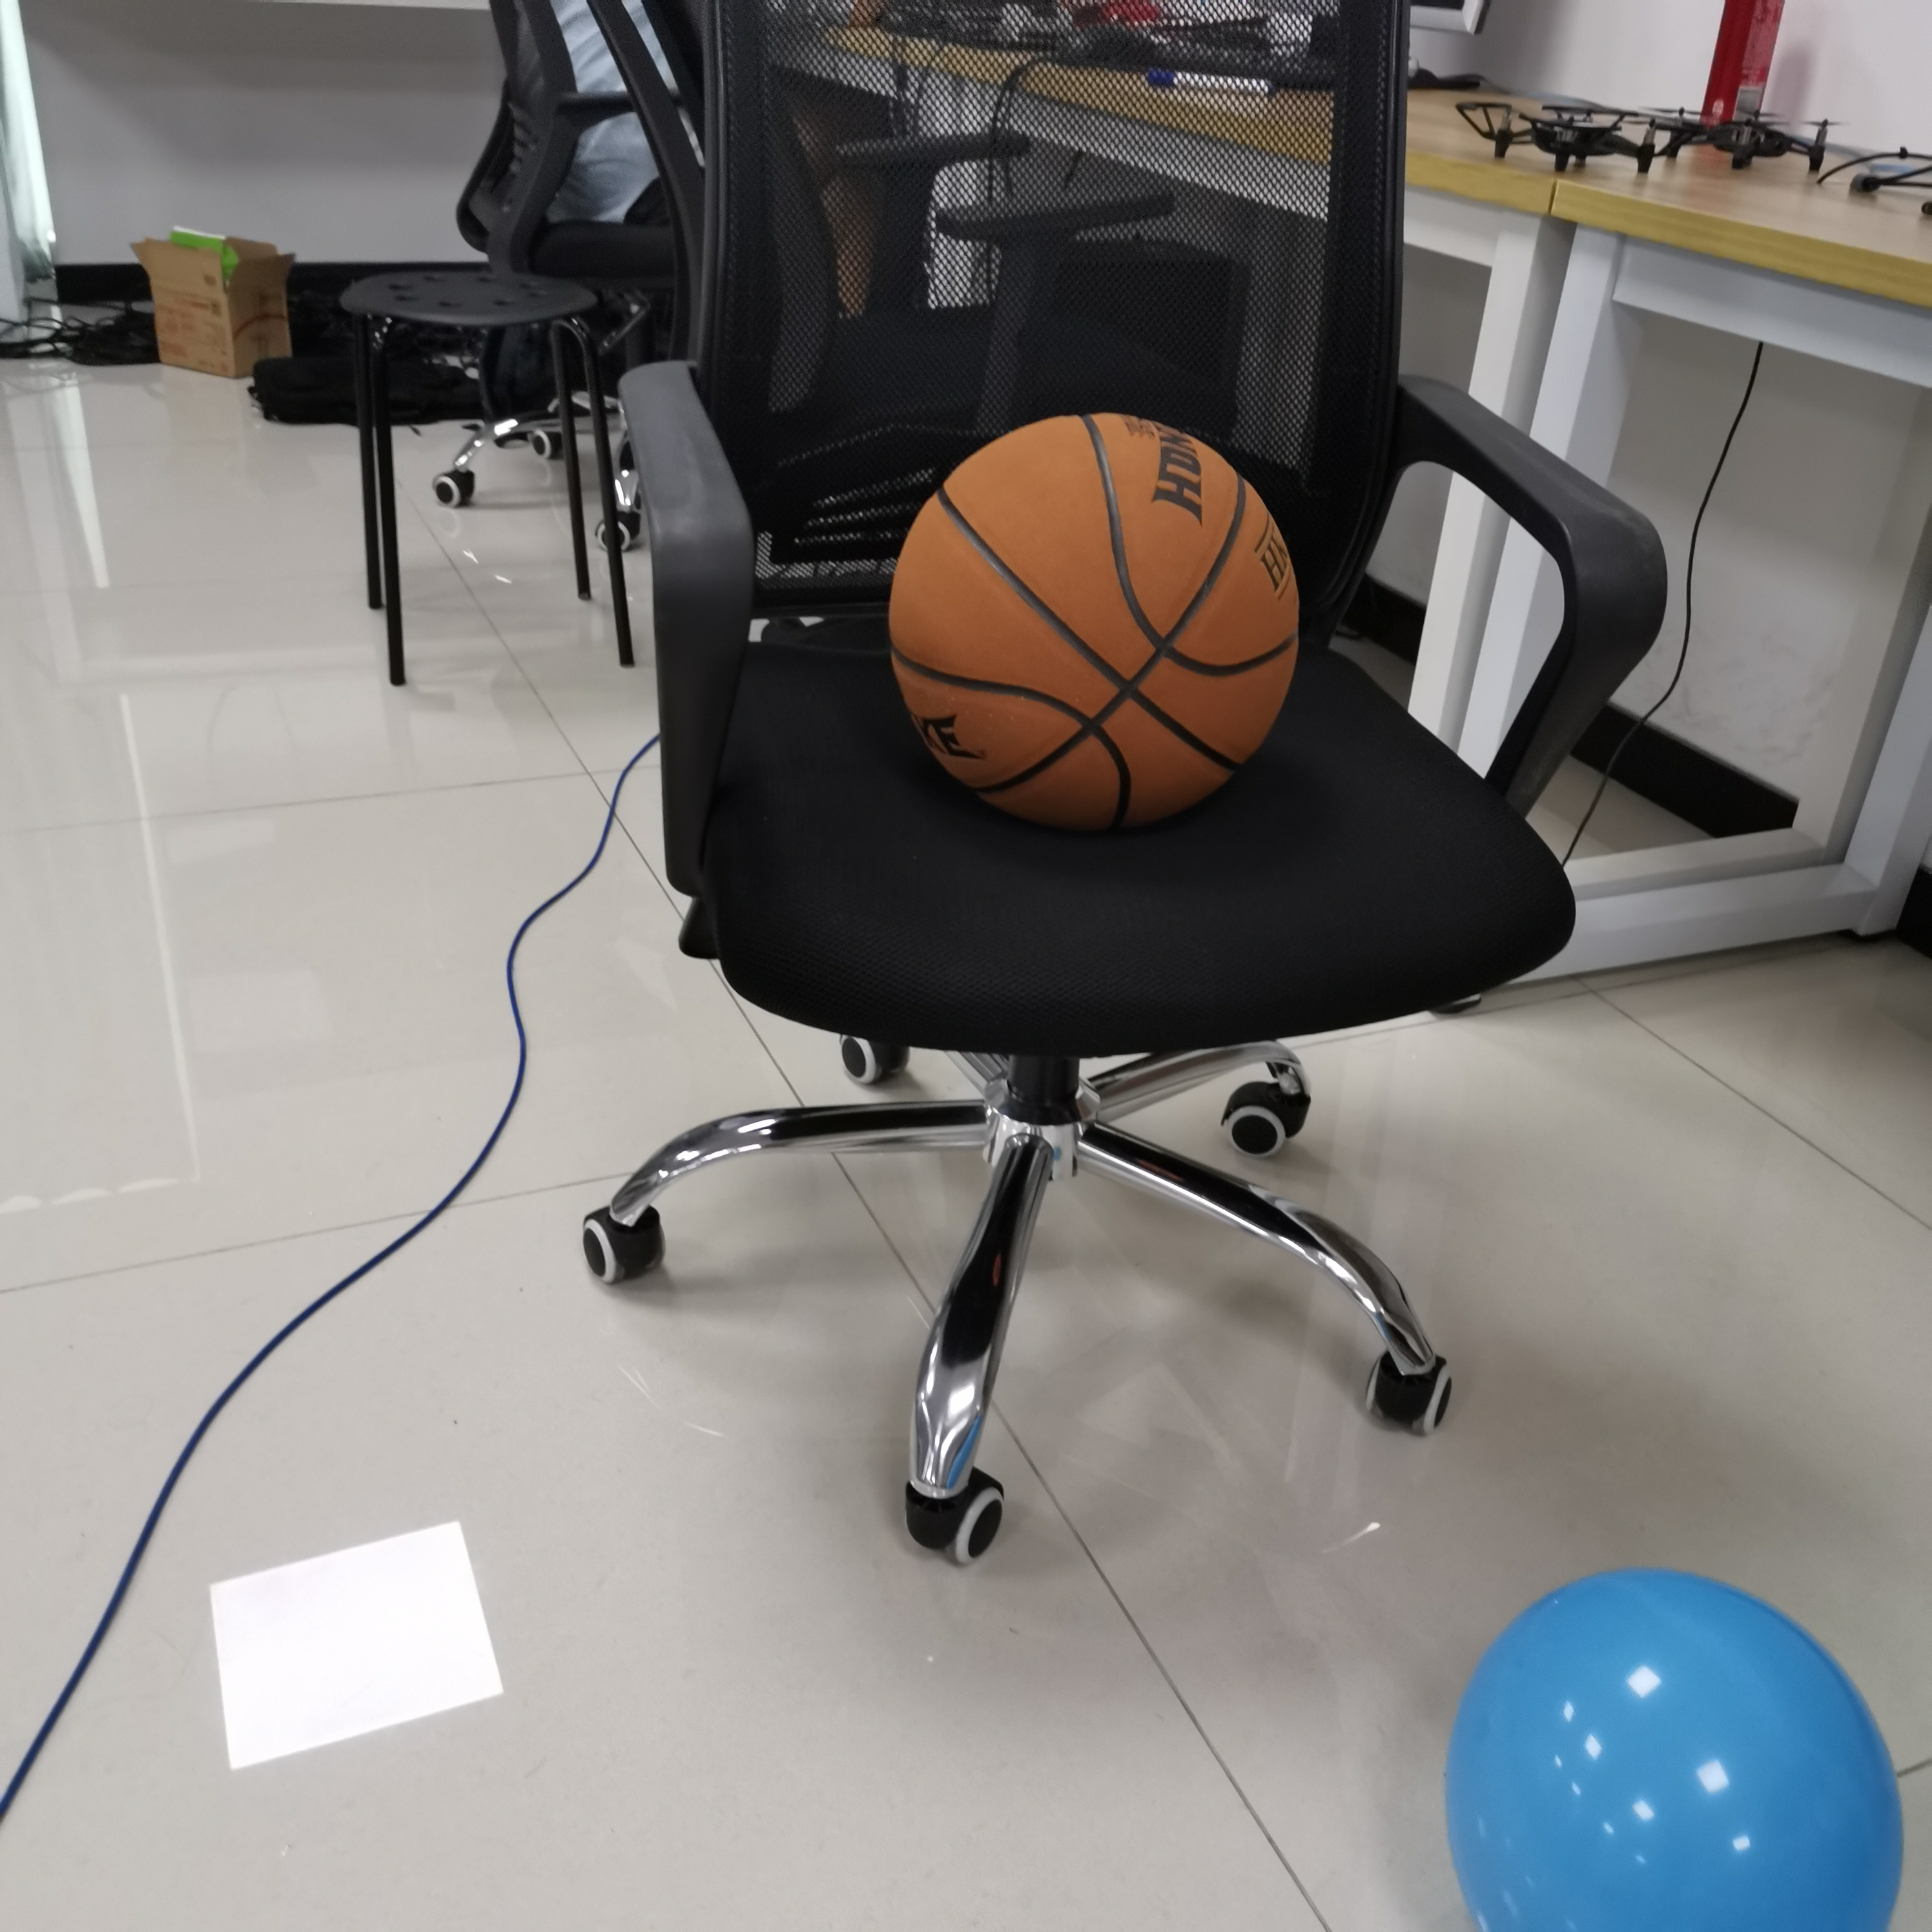balloon: (1444, 1569, 1904, 1918)
basketball: (888, 412, 1304, 830)
